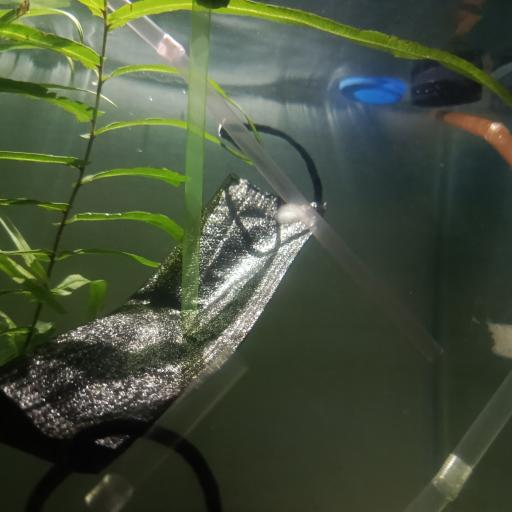bottle_cap: (412, 76, 483, 108), (338, 71, 404, 105)
mask: (2, 122, 318, 512)
plastic_straw: (107, 0, 443, 361), (79, 353, 274, 512), (407, 365, 512, 512), (442, 109, 512, 163)
